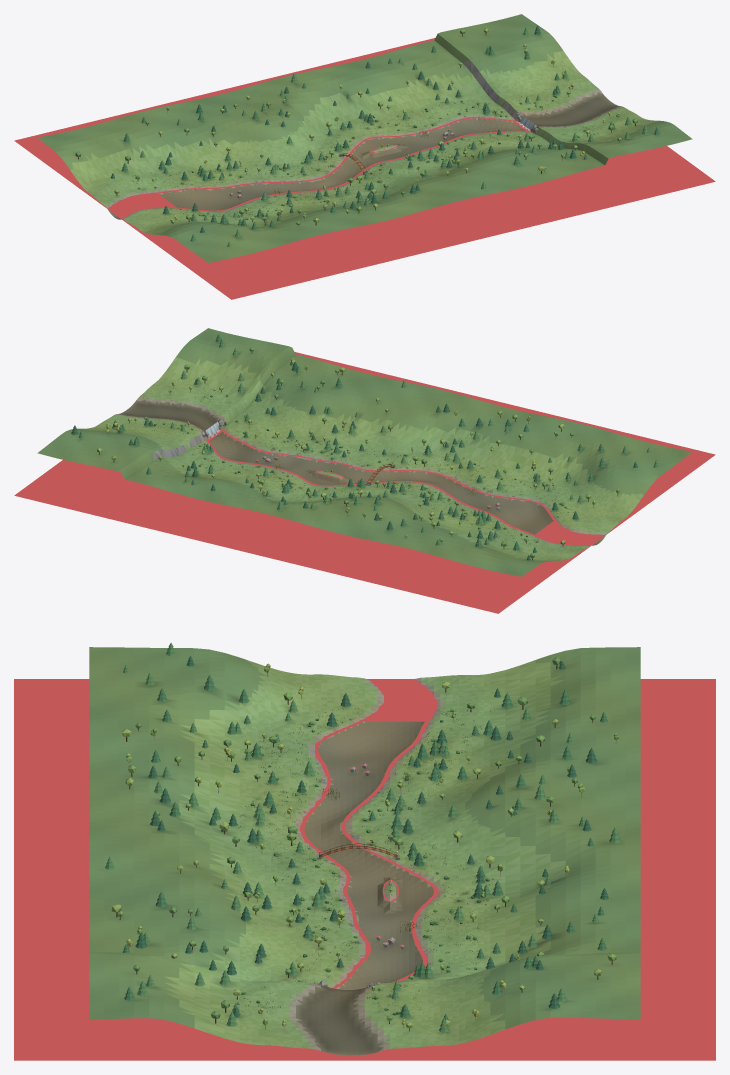
The model's file is river_01.glb.
3 views of the same model, one above another, from view 1: azimuth 30°, elevation 25°; view 2: azimuth 150°, elevation 25°; view 3: azimuth 270°, elevation 25° (orthographic). The views are drawn at different scales.
Visible parts, largest first — view 1: deco_terrain.001, bank_right_col, deco_trees_sway.001, bank_left_col, downstream_col, deco_bushes.001; view 2: deco_terrain.001, bank_left_col, deco_trees_sway.001, bank_right_col, downstream_col; view 3: deco_terrain.001, bank_left_col, bank_right_col, deco_trees_sway.001, waterfall_col, downstream_col, deco_grass_sway.001, deco_bushes.001.
Part boxes in pixels (<box>): deco_terrain.001: <box>38,14,692,262</box>; bank_right_col: <box>120,130,715,299</box>; deco_trees_sway.001: <box>75,25,659,247</box>; bank_left_col: <box>14,38,514,209</box>; downstream_col: <box>61,172,204,265</box>; deco_bushes.001: <box>138,95,595,219</box>; deco_terrain.001: <box>37,328,691,576</box>; bank_left_col: <box>14,439,592,613</box>; deco_trees_sway.001: <box>71,334,659,560</box>; bank_right_col: <box>221,352,715,534</box>; downstream_col: <box>525,484,668,579</box>; deco_terrain.001: <box>89,647,640,1055</box>; bank_left_col: <box>341,679,715,1060</box>; bank_right_col: <box>14,679,387,1060</box>; deco_trees_sway.001: <box>105,642,621,1032</box>; waterfall_col: <box>164,989,565,1060</box>; downstream_col: <box>363,679,437,721</box>; deco_grass_sway.001: <box>238,707,494,1014</box>; deco_bushes.001: <box>236,709,489,1015</box>.
Bounding box in the file's own units: 360 × 30.79 × 280.
